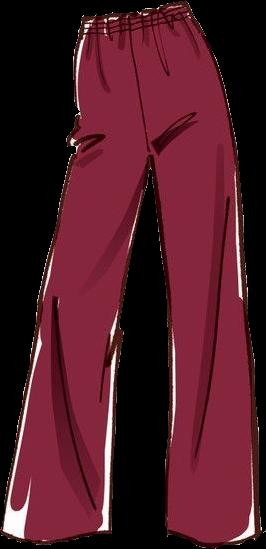Hemline: (0, 526, 112, 544), (166, 529, 262, 548)
Pantleg: (0, 9, 153, 542), (123, 0, 261, 546)
Waistline: (81, 0, 188, 23)
